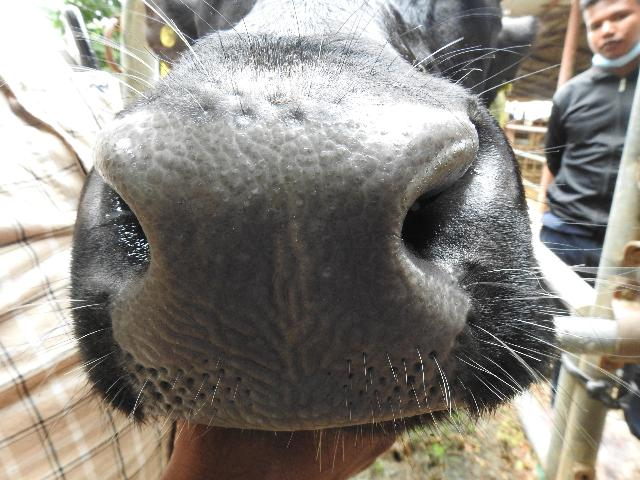Muzzle: (148, 132, 390, 402)
